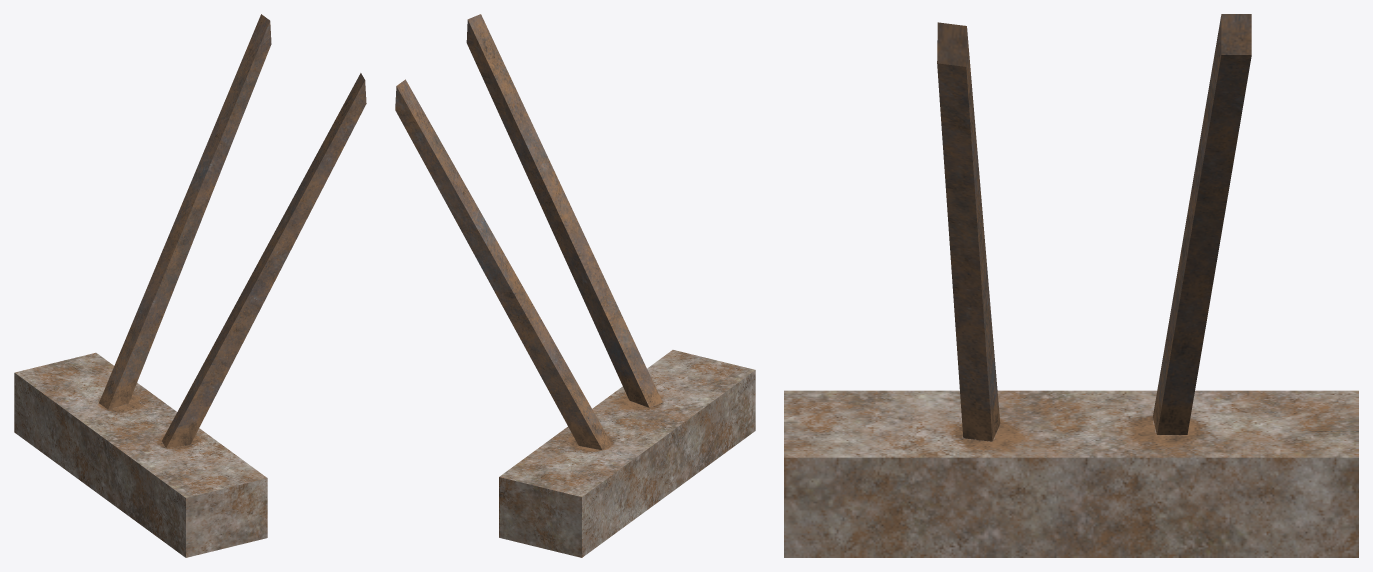
File: ApoyoEdificio3.obj
3 renders of one model, left to right at view 1: azimuth 30°, elevation 25°; view 2: azimuth 150°, elevation 25°; view 3: azimuth 270°, elevation 25°, orthographic. The views are drawn at different scales.
Visible parts, largest first — view 1: Box128; view 2: Box128; view 3: Box128.
Part boxes in pixels (x1,y1,x2,y2): Box128: [14, 14, 366, 557]; Box128: [395, 14, 755, 557]; Box128: [784, 14, 1358, 557].
Bounding box in the file's own units: 36.35 × 58.63 × 46.78.
1 material, 1 textured.
